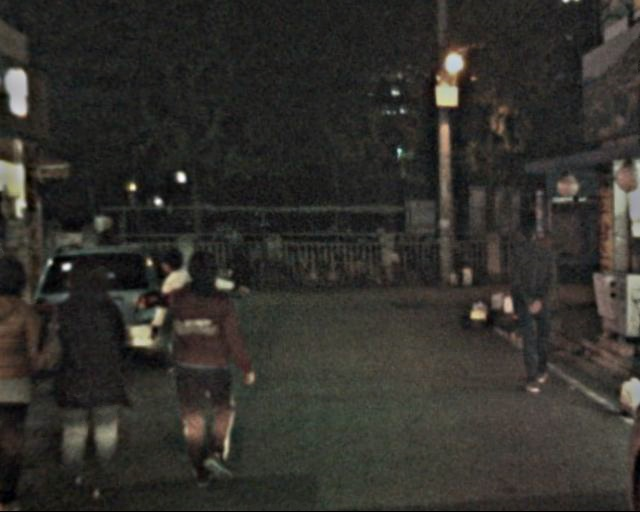person: (43, 242, 141, 498), (154, 244, 247, 491), (498, 209, 565, 401), (155, 239, 217, 414)
